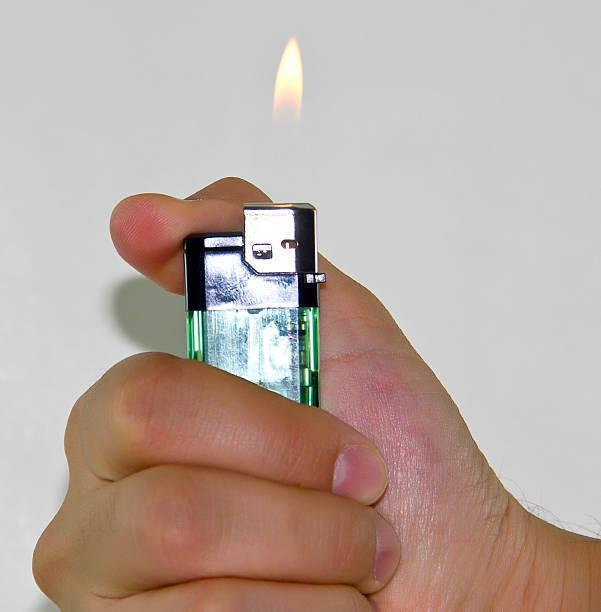Fire: (267, 33, 310, 121)
